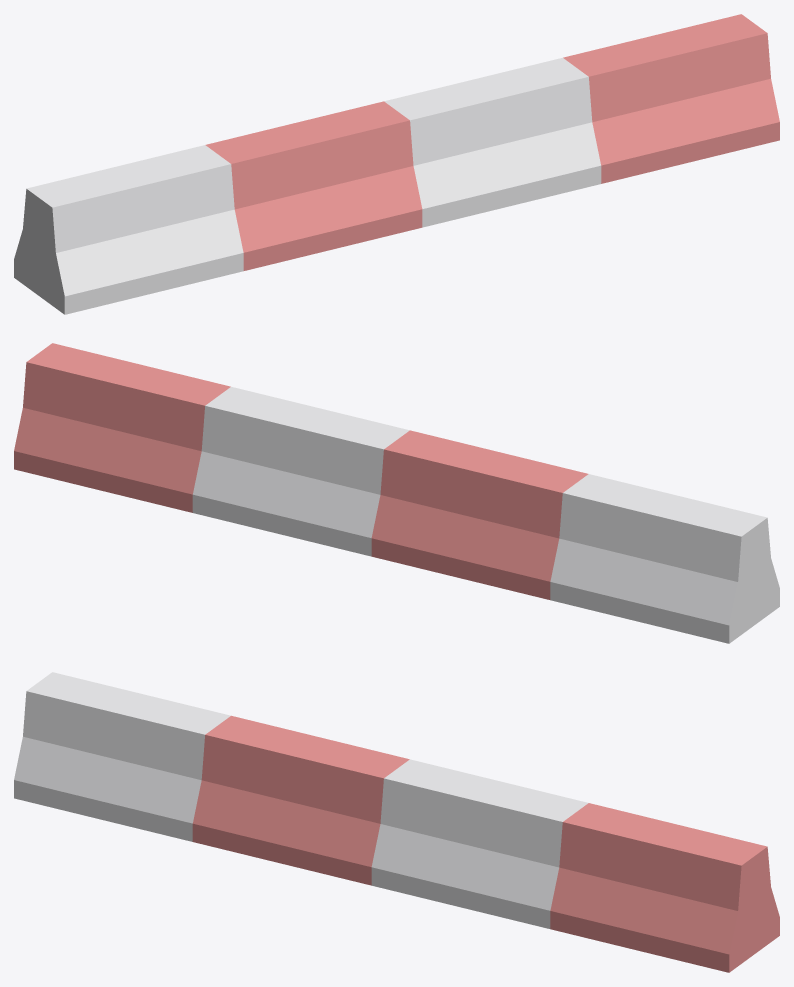
Rendered from barrierWall.glb.
3 renders of one model, top to bottom at view 1: azimuth 30°, elevation 25°; view 2: azimuth 150°, elevation 25°; view 3: azimuth 330°, elevation 25°, orthographic.
Visible parts, largest first — view 1: barrierWall(Clone); view 2: barrierWall(Clone); view 3: barrierWall(Clone).
Boxes of the visible parts, x1=… form: barrierWall(Clone): x1=14, y1=14, x2=779, y2=314; barrierWall(Clone): x1=14, y1=343, x2=779, y2=643; barrierWall(Clone): x1=14, y1=672, x2=779, y2=972.
Bounding box in the file's own units: 1 × 0.1312 × 0.123.
1 material, 1 textured.
